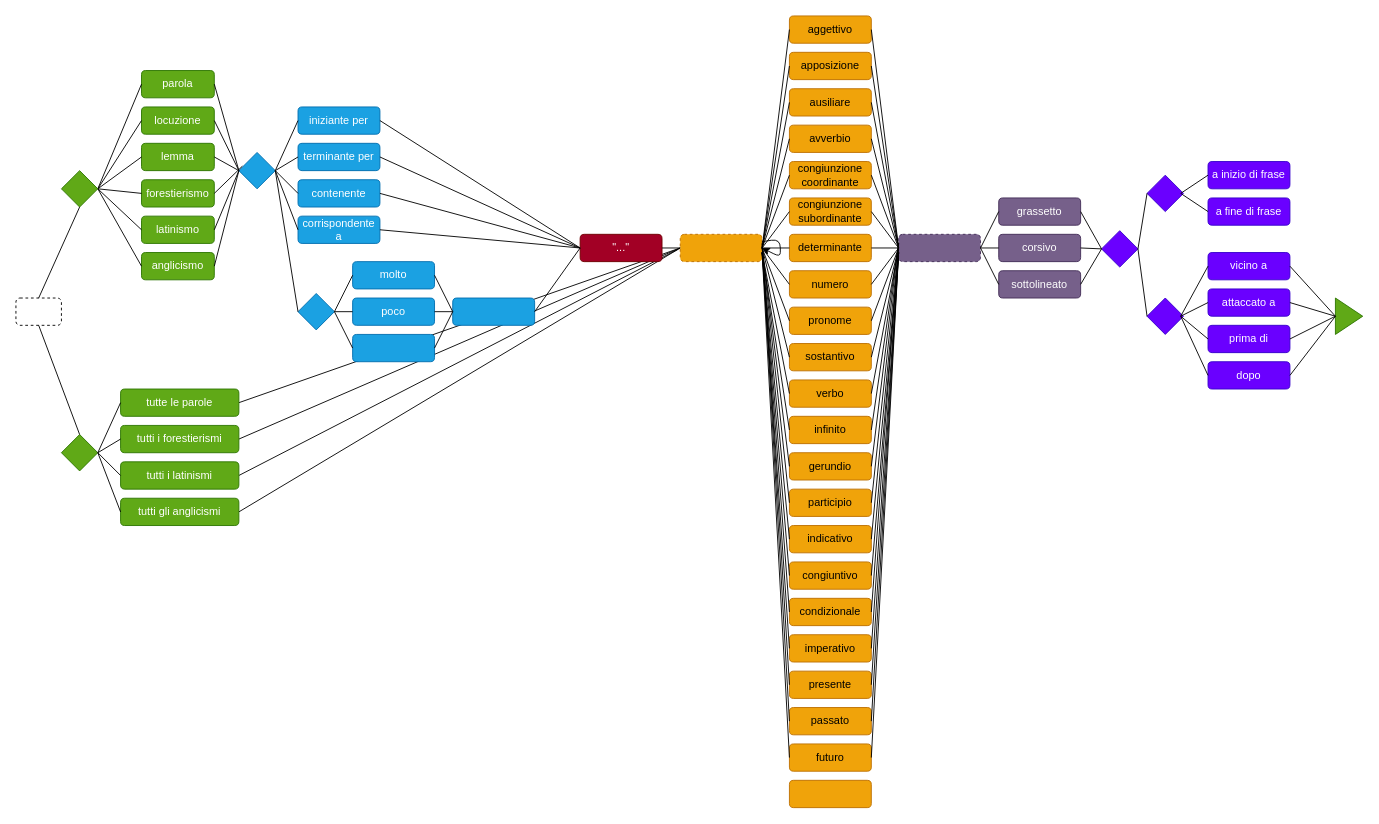
The diagram is 1379 pixels wide and 824 high, and some of its shapes have lost their labels. Each missing label, with the box of its shape:
... etc ...: (789, 779, 871, 808)
come: (679, 233, 762, 262)
in: (898, 233, 981, 262)
simile a: (452, 297, 535, 325)
trova: (15, 297, 61, 325)
